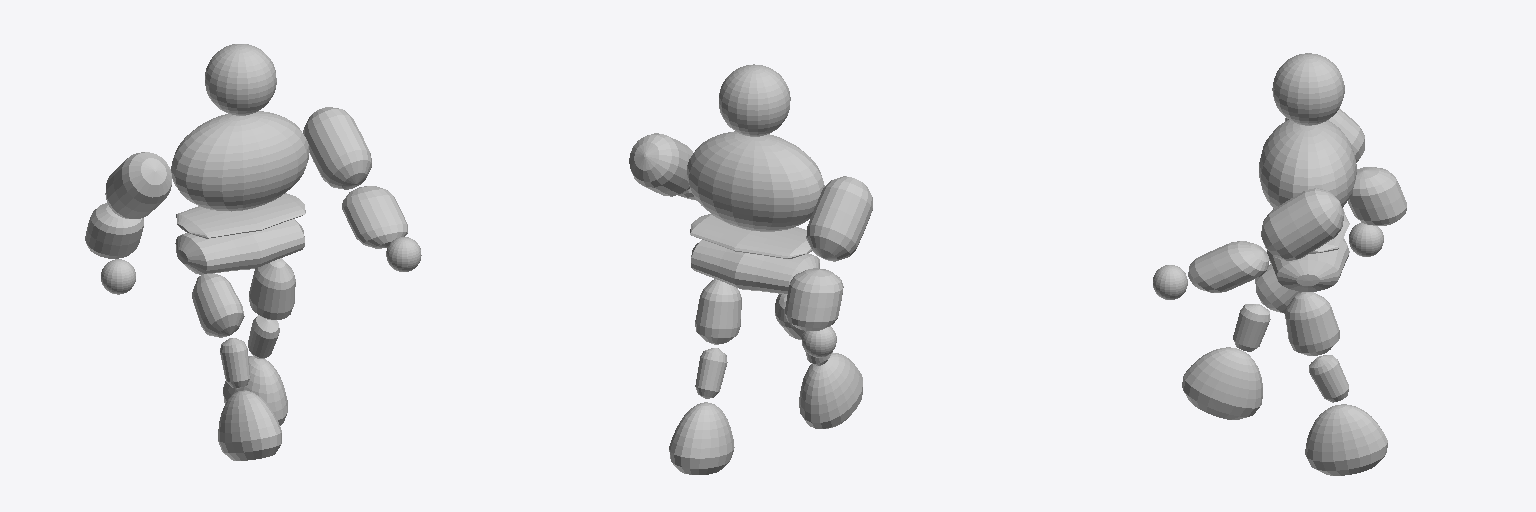
Rendered from PTwo5.obj.
3 renders of one model, left to right at view 1: azimuth 30°, elevation 25°; view 2: azimuth 150°, elevation 25°; view 3: azimuth 270°, elevation 25°, orthographic.
Bounding box in the file's own units: 4.03 × 6.48 × 3.76.